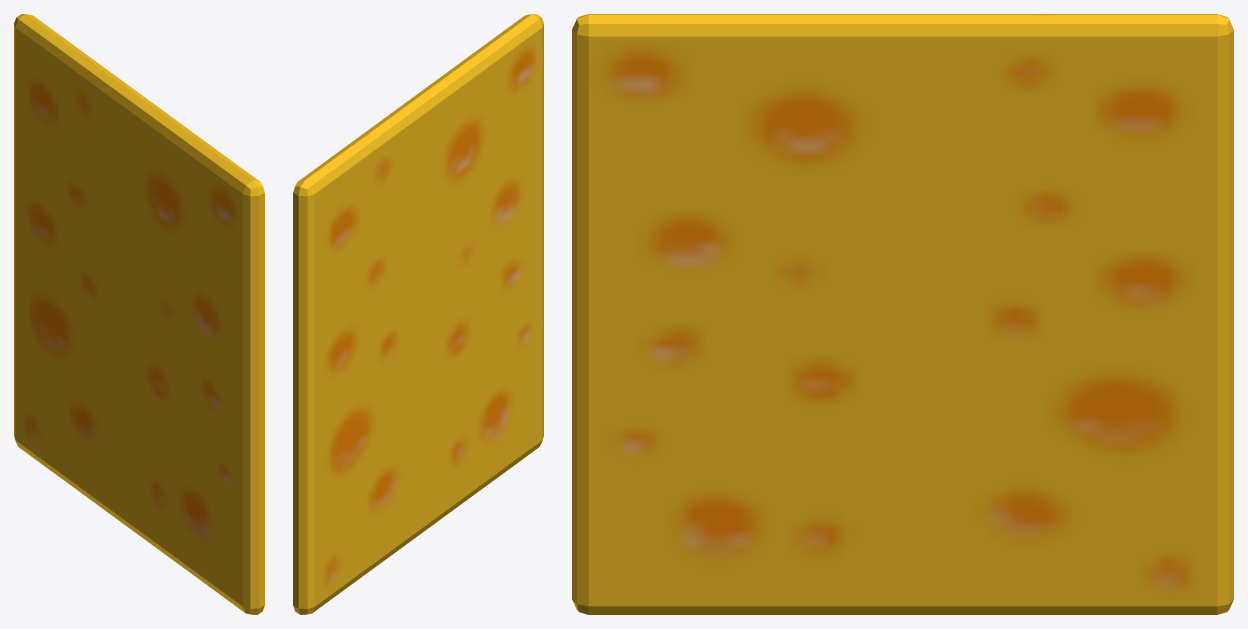
The model's file is Cheese.fbx.
The picture shows the model from 3 angles, left to right: view 1: azimuth 30°, elevation 25°; view 2: azimuth 150°, elevation 25°; view 3: azimuth 270°, elevation 25°; orthographic projection. The views are drawn at different scales.
Parts seen in each view (by area): view 1: Cheese; view 2: Cheese; view 3: Cheese.
Part boxes in pixels (left/top/right/bottom): Cheese: left=14, top=14, right=264, bottom=614; Cheese: left=293, top=14, right=543, bottom=614; Cheese: left=572, top=14, right=1233, bottom=614.
Size of the model in its own units: 10 by 200 by 200.
